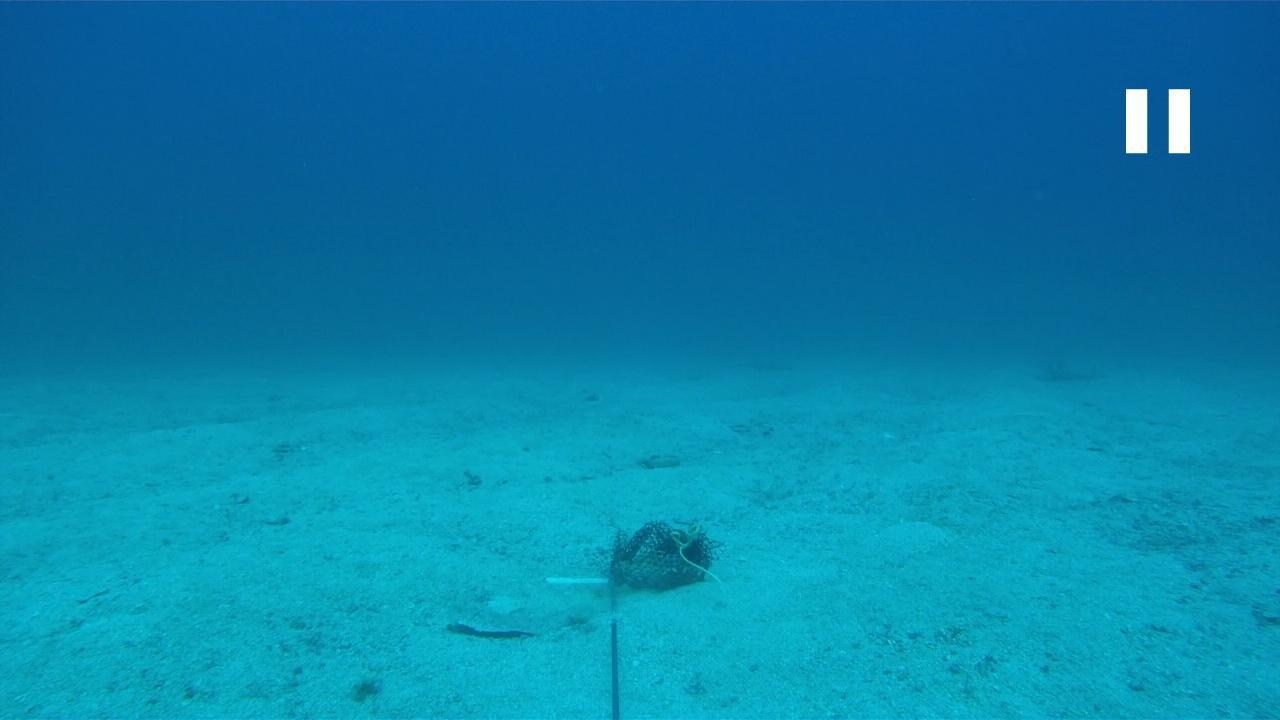bothus: (449, 598, 576, 637)
